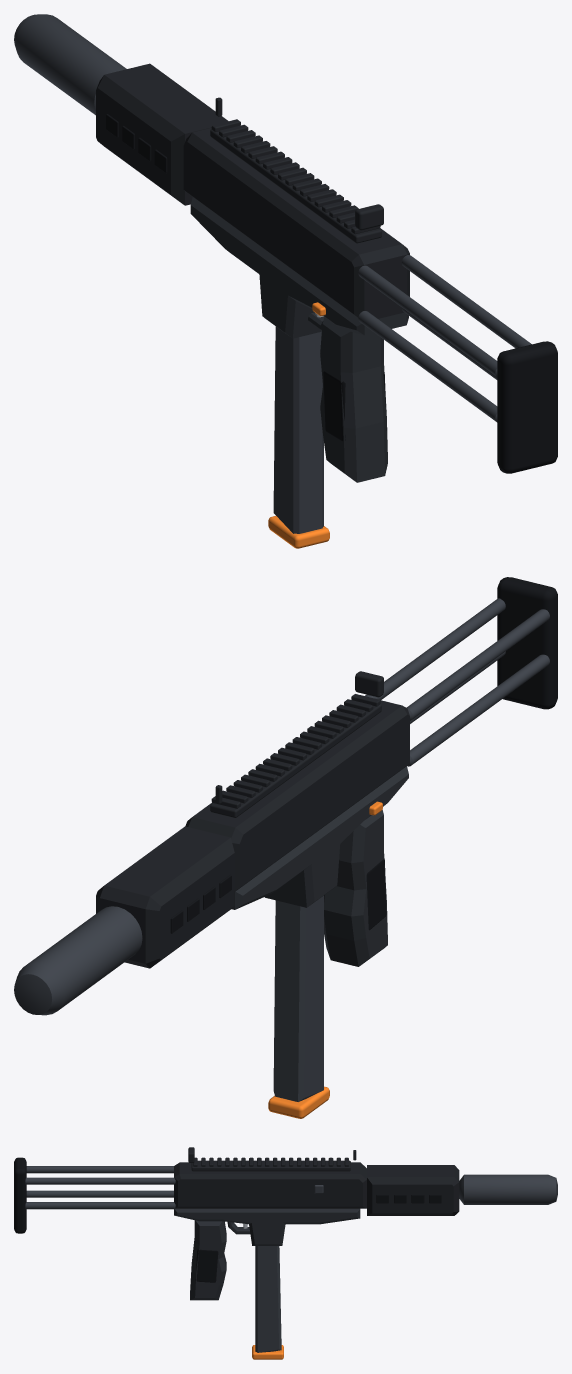
File: smg.glb
3 views of the same model, one above another, from view 1: azimuth 30°, elevation 25°; view 2: azimuth 150°, elevation 25°; view 3: azimuth 270°, elevation 25° (orthographic). The views are drawn at different scales.
Parts seen in each view (by area): view 1: upper_receiver, magazine, handguard, grip, buttplate, lower_receiver, suppressor, stock_rod_R_68, stock_rod_R_34, stock_rod_L_68, rail_base, grip_texture (+1 smaller); view 2: upper_receiver, handguard, magazine, suppressor, lower_receiver, grip, buttplate, stock_rod_R_68, stock_rod_R_34, stock_rod_L_68, rail_base, grip_texture (+1 smaller); view 3: upper_receiver, handguard, lower_receiver, suppressor, magazine, grip, rail_base, stock_rod_L_68, stock_rod_L_34, stock_rod_R_68, stock_rod_R_34, buttplate (+2 smaller).
Boxes of the visible parts, x1,y1,x2,y2 form: upper_receiver: [183, 128, 409, 318]; magazine: [273, 326, 323, 533]; handguard: [96, 63, 228, 205]; grip: [320, 317, 387, 482]; buttplate: [497, 341, 557, 473]; lower_receiver: [190, 197, 408, 338]; suppressor: [14, 14, 126, 115]; stock_rod_R_68: [358, 265, 497, 376]; stock_rod_R_34: [358, 311, 497, 422]; stock_rod_L_68: [401, 255, 531, 348]; rail_base: [210, 129, 381, 243]; grip_texture: [323, 371, 386, 441]; upper_receiver: [185, 700, 409, 891]; handguard: [96, 826, 234, 968]; magazine: [273, 895, 323, 1101]; suppressor: [14, 906, 142, 1015]; lower_receiver: [231, 766, 408, 909]; grip: [324, 810, 387, 966]; buttplate: [497, 577, 557, 709]; stock_rod_R_68: [406, 609, 549, 720]; stock_rod_R_34: [407, 654, 549, 766]; stock_rod_L_68: [365, 598, 505, 700]; rail_base: [210, 704, 381, 817]; grip_texture: [366, 858, 386, 930]; upper_receiver: [174, 1162, 366, 1208]; handguard: [367, 1165, 459, 1215]; lower_receiver: [174, 1208, 360, 1245]; suppressor: [459, 1174, 557, 1204]; magazine: [255, 1246, 281, 1352]; grip: [190, 1220, 226, 1300]; rail_base: [191, 1160, 350, 1171]; stock_rod_L_68: [25, 1177, 175, 1184]; stock_rod_L_34: [25, 1202, 175, 1209]; stock_rod_R_68: [26, 1166, 173, 1173]; stock_rod_R_34: [26, 1190, 173, 1197]; buttplate: [14, 1157, 26, 1233].
Bounding box in the file's own units: 0.0524 × 0.285 × 0.683.
